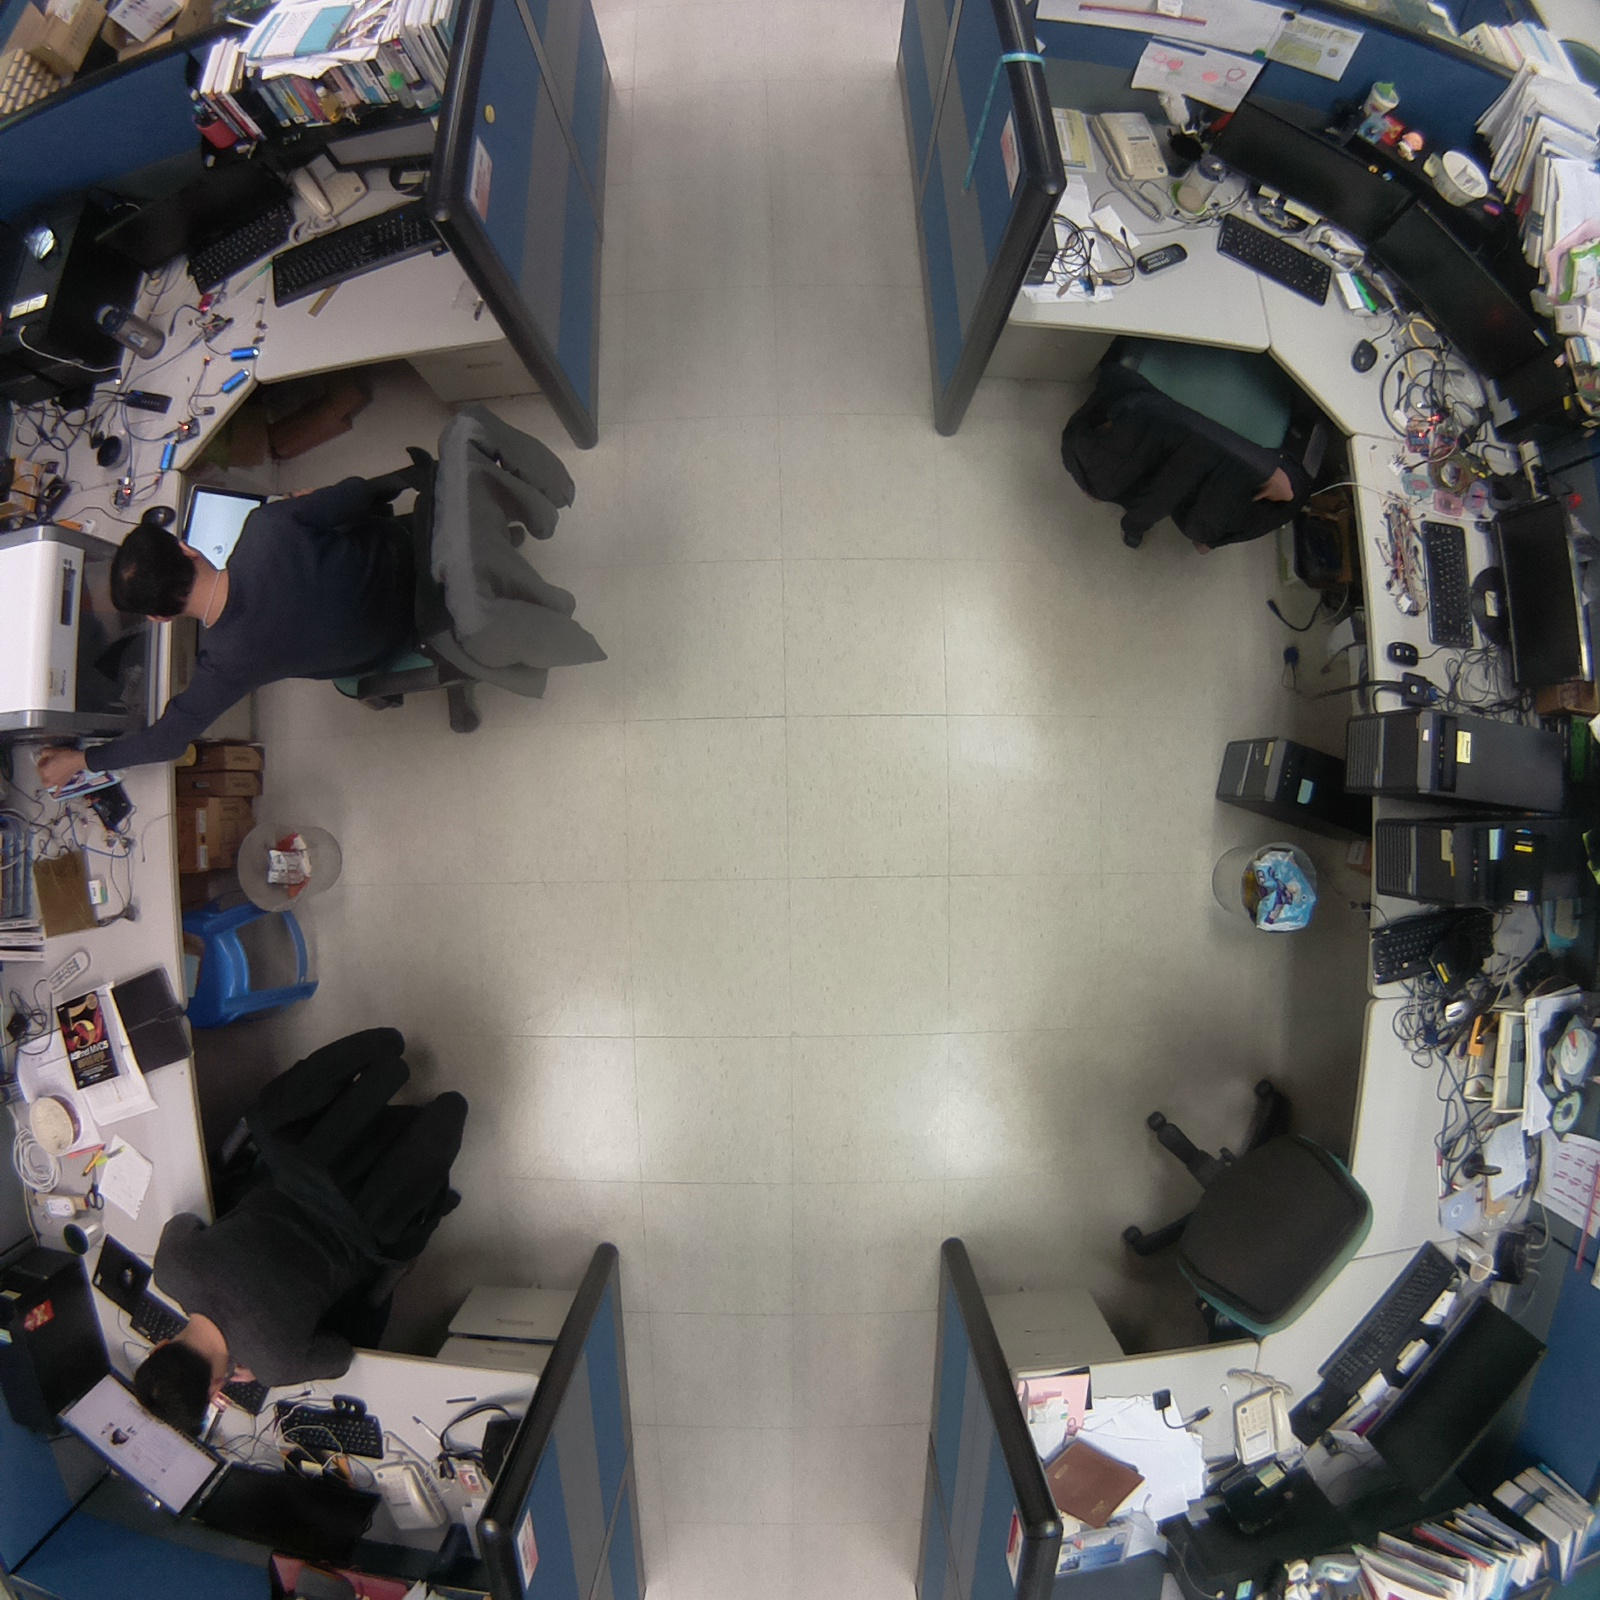chair: (1091, 1060, 1388, 1373), (1047, 311, 1337, 575)
head: (100, 514, 208, 636), (127, 1331, 234, 1442)
sitting: (60, 393, 624, 793), (113, 1011, 478, 1435)
